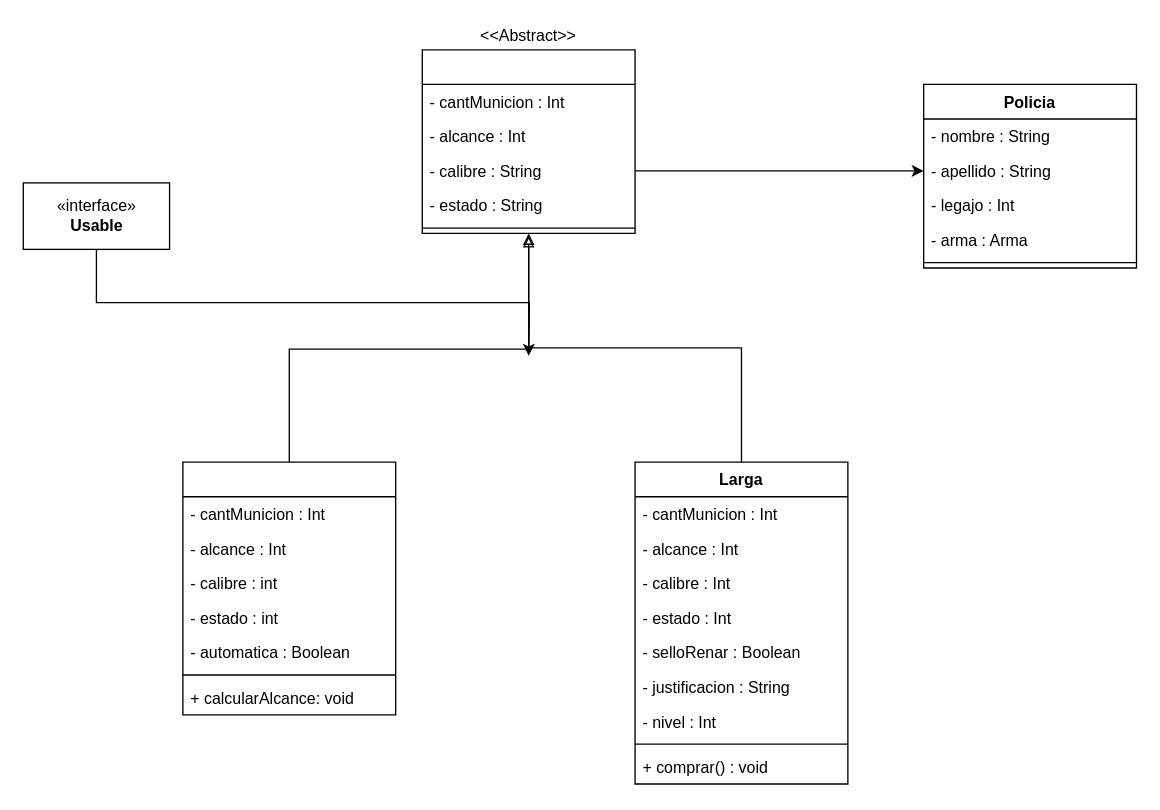
The diagram is 1160 pixels wide and 810 high, and some of its shapes have lost their labels. The box of each missing label's shape, as (x1, y1, x2, y2) in pixels:
Arma: (421, 49, 635, 233)
Corta: (182, 461, 396, 715)
